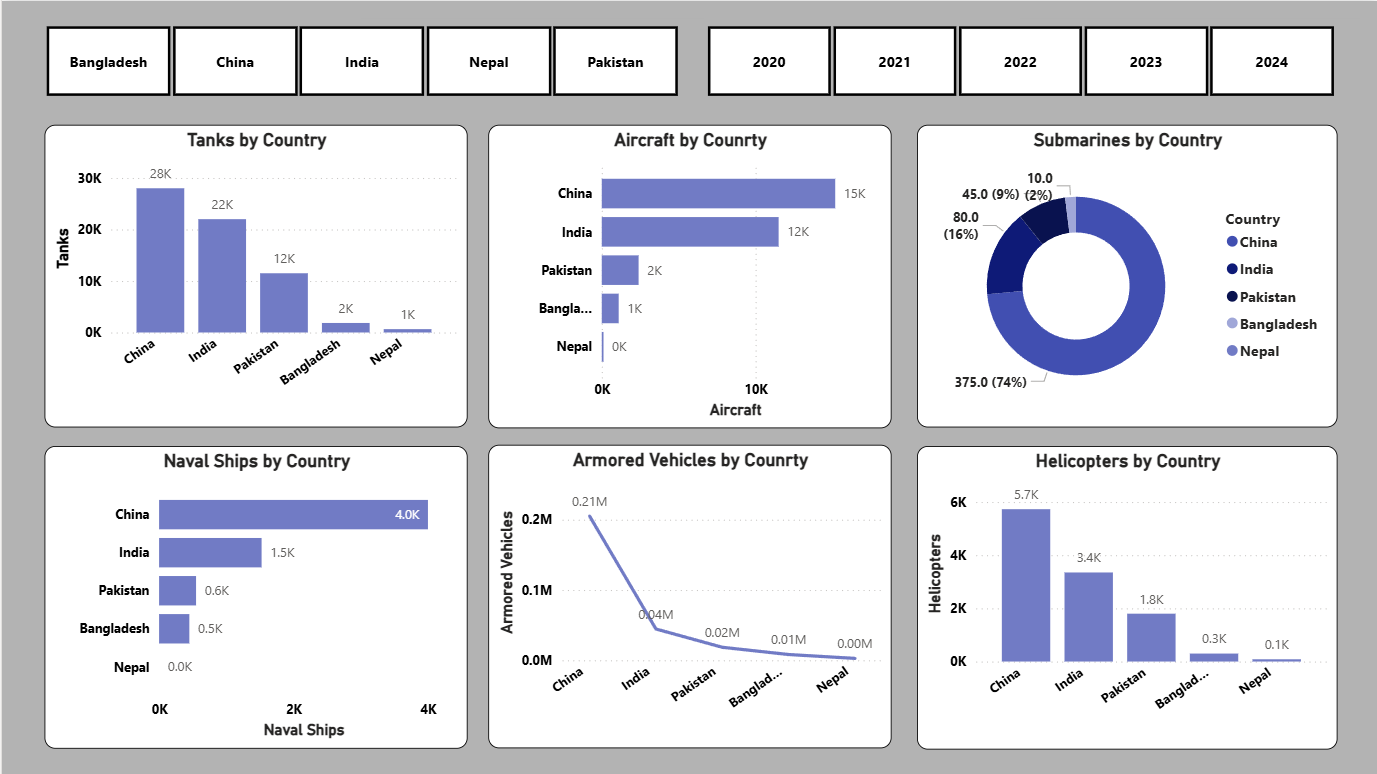

This screenshot's page, from the dashboard's own definition file:
{"tool":"powerbi","page":{"name":"REPORT - 2","canvas":[1280,720],"ordinal":1},"visuals":[{"type":"slicer","fields":{"Values":["Armed_Forces_Dataset.Country"]},"box":[15,16.2,637.5,78.8],"z":0},{"type":"slicer","fields":{"Values":["Armed_Forces_Dataset.Year"]},"box":[630,16.2,632.5,78.8],"z":1000},{"type":"columnChart","title":"Tanks by Country","fields":{"Category":["Armed_Forces_Dataset.Country"],"Y":["Sum(Armed_Forces_Dataset.Tanks)"]},"box":[40,115,393.8,281.2],"z":2000},{"type":"clusteredBarChart","title":"Naval Ships by Country","fields":{"Category":["Armed_Forces_Dataset.Country"],"Y":["Sum(Armed_Forces_Dataset.Naval Ships)"]},"box":[40,413.8,393.8,281.2],"z":3000},{"type":"donutChart","title":"Submarines by Country","fields":{"Category":["Armed_Forces_Dataset.Country"],"Y":["Sum(Armed_Forces_Dataset.Submarines)"]},"box":[851.2,115,391.2,281.2],"z":4000},{"type":"columnChart","title":"Helicopters by Country","fields":{"Category":["Armed_Forces_Dataset.Country"],"Y":["Sum(Armed_Forces_Dataset.Helicopters)"]},"box":[851.2,413.8,391.2,282.5],"z":5000},{"type":"lineChart","title":"Armored Vehicles by Counrty","fields":{"Category":["Armed_Forces_Dataset.Country"],"Y":["Sum(Armed_Forces_Dataset.Armored Vehicles)"]},"box":[452.5,412.5,375,282.5],"z":6000},{"type":"barChart","title":"Aircraft by Counrty","fields":{"Category":["Armed_Forces_Dataset.Country"],"Y":["Sum(Armed_Forces_Dataset.Aircraft)"]},"box":[452.5,115,375,282.5],"z":7000}]}

Visuals, with their boxes in screenshot pixels (x1, y1, x2, y2), scaled from the page's 1280x720 canvas onto the 1377x774 screenshot:
slicer - Armed_Forces_Dataset.Country: <bbox>16, 17, 702, 102</bbox>
slicer - Armed_Forces_Dataset.Year: <bbox>678, 17, 1358, 102</bbox>
"Tanks by Country" columnChart: <bbox>43, 124, 467, 426</bbox>
"Naval Ships by Country" clusteredBarChart: <bbox>43, 445, 467, 747</bbox>
"Submarines by Country" donutChart: <bbox>916, 124, 1337, 426</bbox>
"Helicopters by Country" columnChart: <bbox>916, 445, 1337, 749</bbox>
"Armored Vehicles by Counrty" lineChart: <bbox>487, 443, 890, 747</bbox>
"Aircraft by Counrty" barChart: <bbox>487, 124, 890, 427</bbox>
